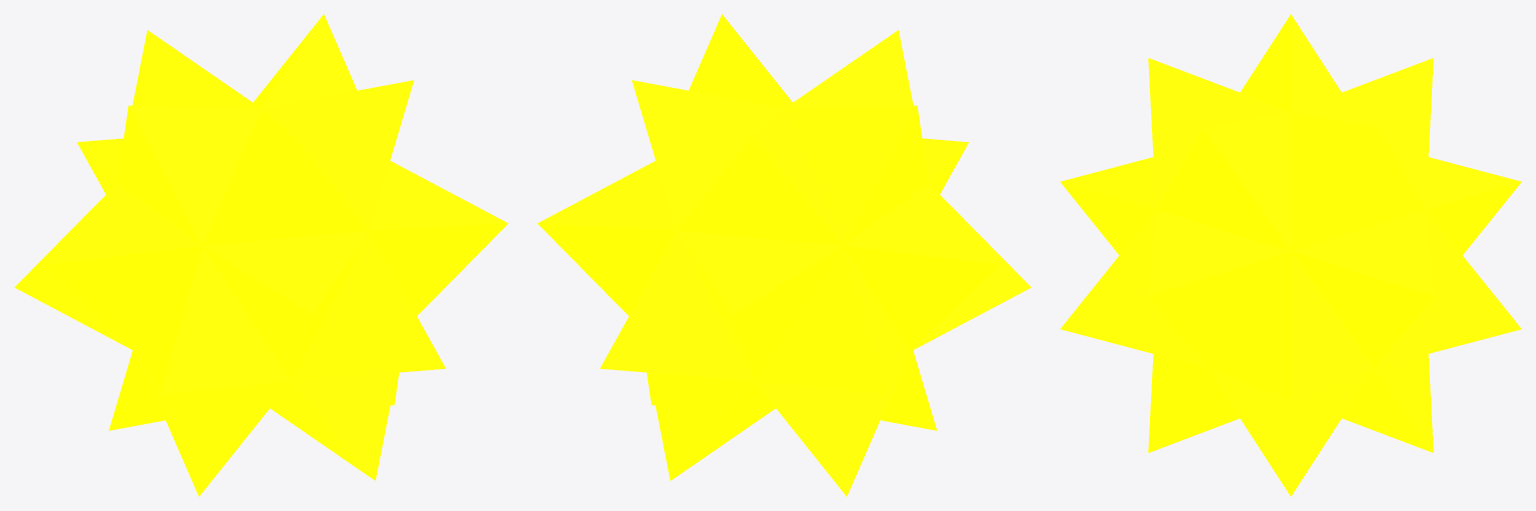
Rendered from polygonal_star.glb.
3 renders of one model, left to right at view 1: azimuth 30°, elevation 25°; view 2: azimuth 150°, elevation 25°; view 3: azimuth 270°, elevation 25°, orthographic. The views are drawn at different scales.
Parts seen in each view (by area): view 1: ICO球.001; view 2: ICO球.001; view 3: ICO球.001.
Boxes of the visible parts, x1=… form: ICO球.001: x1=14, y1=14, x2=508, y2=496; ICO球.001: x1=537, y1=14, x2=1031, y2=496; ICO球.001: x1=1060, y1=14, x2=1521, y2=496.
Bounding box in the file's own units: 0.6127 × 0.4957 × 0.5827.
